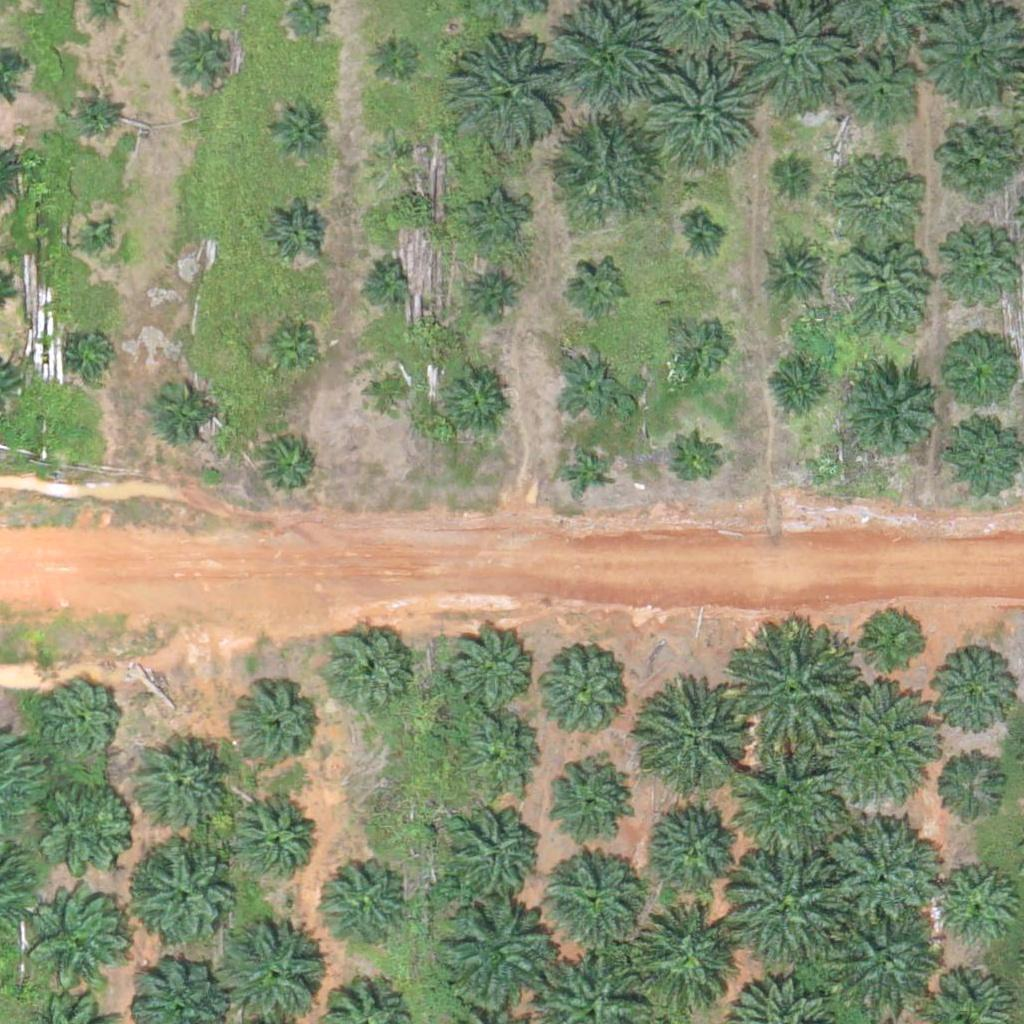Kelapa_Sawit: (731, 634, 856, 760), (445, 32, 570, 158), (831, 689, 944, 803), (627, 902, 740, 1016), (734, 752, 847, 865), (725, 853, 838, 966), (640, 55, 753, 168), (544, 112, 657, 225), (438, 899, 550, 1013), (831, 904, 943, 1017), (826, 817, 938, 930), (130, 843, 242, 956), (649, 795, 749, 896), (533, 639, 633, 740), (309, 859, 409, 960), (132, 735, 232, 836), (34, 889, 134, 990), (838, 362, 938, 463), (644, 693, 744, 793), (546, 849, 646, 949), (442, 802, 542, 902), (38, 767, 138, 867), (928, 651, 1016, 740), (929, 863, 1017, 951), (540, 755, 628, 843), (322, 624, 410, 712), (225, 795, 313, 883), (833, 153, 921, 241), (841, 247, 929, 335), (460, 710, 547, 798), (448, 627, 535, 715), (235, 684, 322, 772), (39, 680, 126, 768), (149, 374, 224, 450), (941, 123, 1016, 199), (930, 756, 1005, 832), (943, 238, 1018, 314), (946, 420, 1021, 496), (839, 56, 914, 132), (438, 364, 513, 439), (554, 346, 629, 421), (179, 25, 242, 88), (266, 97, 329, 160), (266, 202, 329, 265), (943, 343, 1006, 406), (259, 434, 322, 497), (767, 361, 830, 424), (864, 608, 927, 671), (662, 316, 725, 379), (259, 316, 322, 379), (466, 189, 528, 252), (570, 258, 632, 321), (668, 438, 718, 489), (472, 267, 522, 318), (561, 447, 611, 498), (370, 27, 420, 78), (369, 124, 419, 175), (359, 253, 409, 304), (69, 328, 119, 378), (770, 246, 820, 296), (363, 369, 413, 419), (71, 87, 121, 137), (778, 157, 816, 195), (78, 223, 116, 261), (683, 219, 720, 257)
